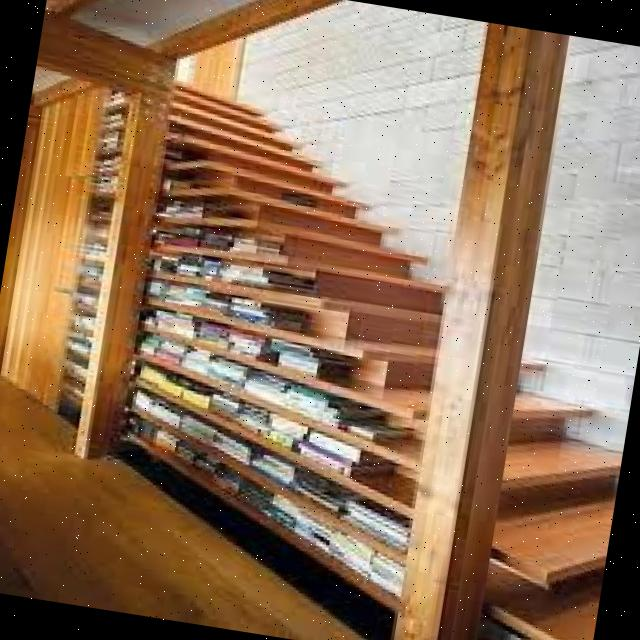stairs: (80, 78, 640, 640)
